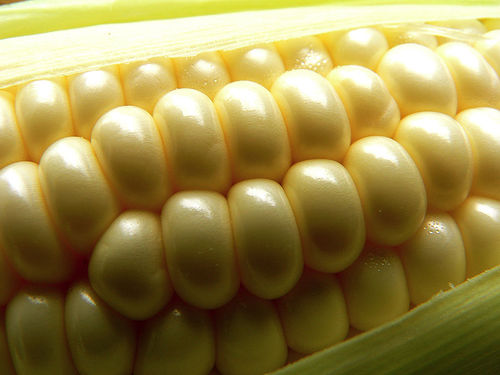corn: (0, 3, 499, 374)
